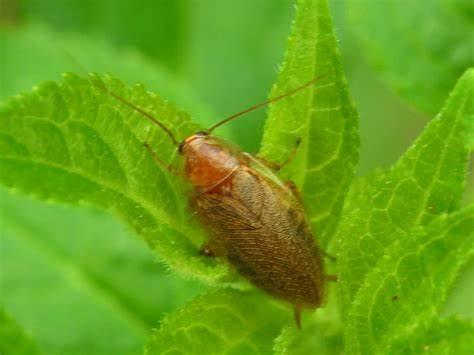cockroach: (174, 122, 330, 316)
